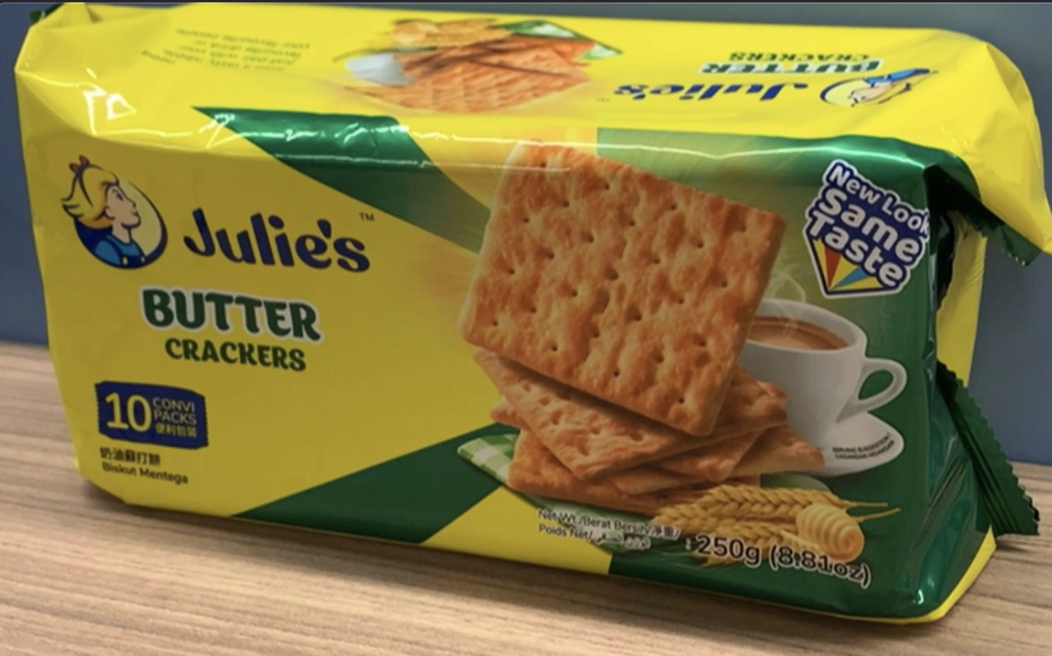crackers_200g-299g: (61, 130, 932, 581)
